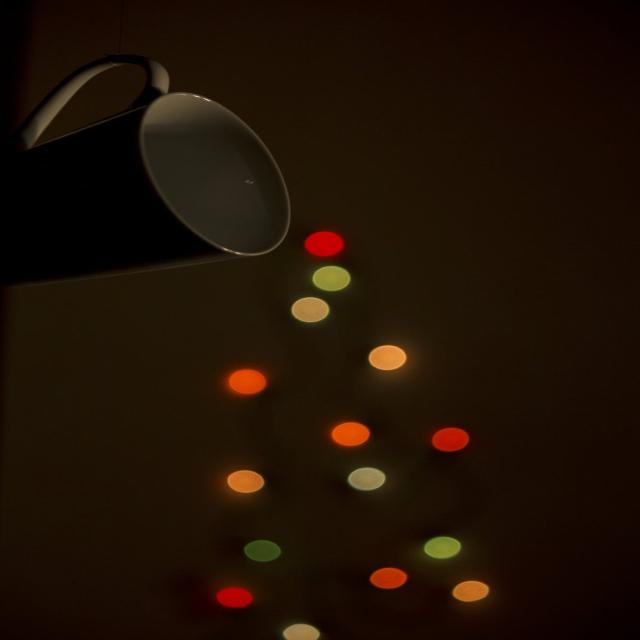Cup: (0, 47, 345, 304)
